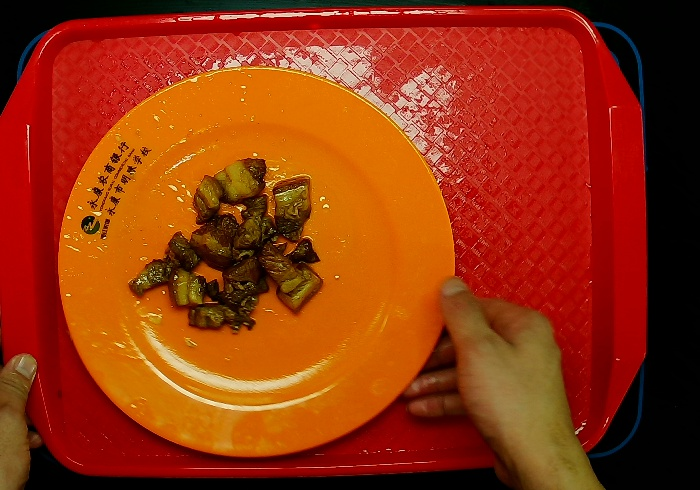YKMZ-Ju_Se_Mian_Pan: (60, 63, 461, 461)
